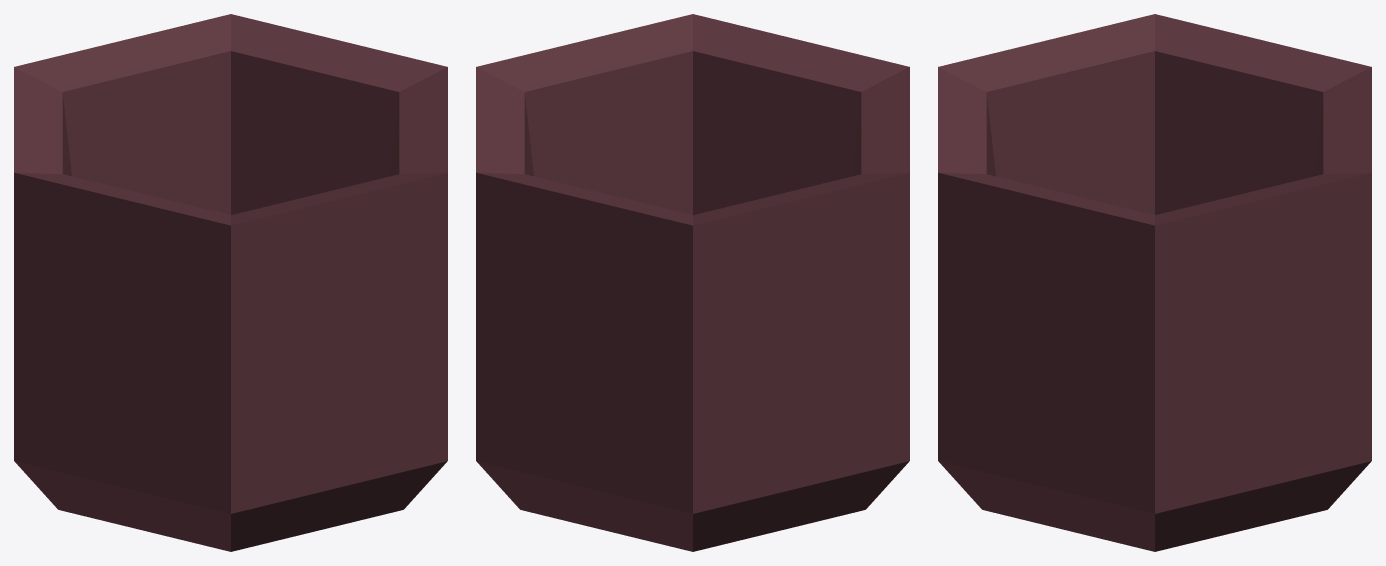
Rendered from props-thermos-cup.glb.
3 views of the same model, side by side, from view 1: azimuth 30°, elevation 25°; view 2: azimuth 150°, elevation 25°; view 3: azimuth 270°, elevation 25° (orthographic).
Parts seen in each view (by area): view 1: thermos-cup; view 2: thermos-cup; view 3: thermos-cup.
Boxes of the visible parts, x1=… form: thermos-cup: x1=14, y1=14, x2=447, y2=551; thermos-cup: x1=476, y1=14, x2=909, y2=551; thermos-cup: x1=938, y1=14, x2=1371, y2=551.
Size of the model in its own units: 0.1212 by 0.0929 by 0.1049.
